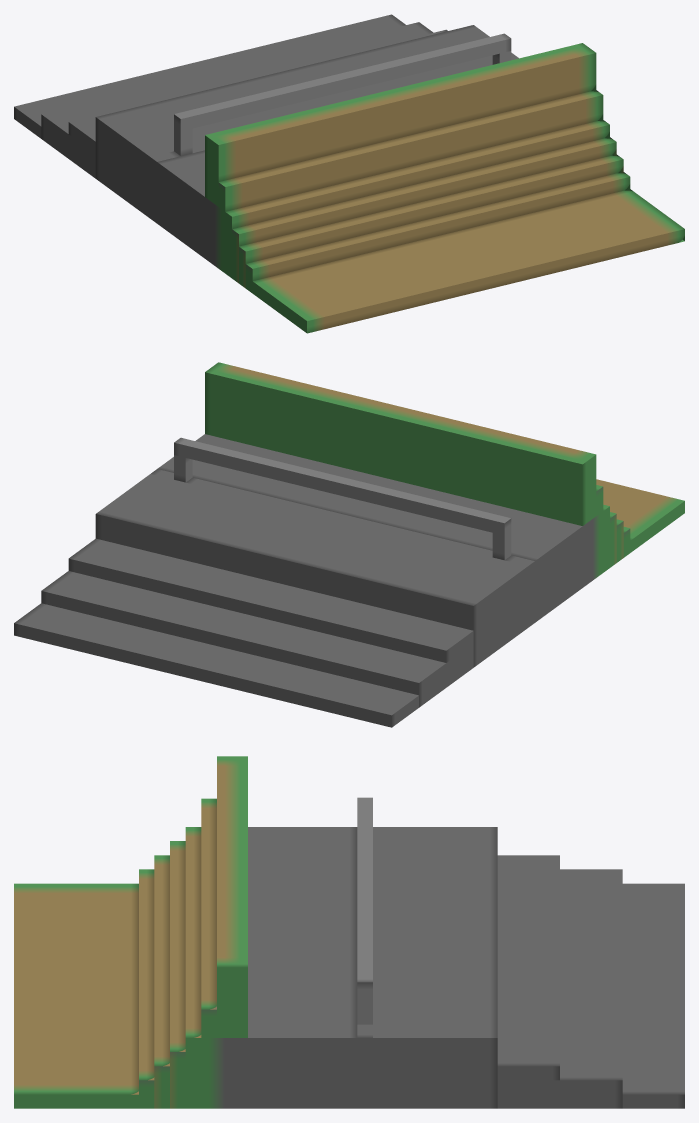
Rendered from SKATE_1.dae.
The picture shows the model from 3 angles, top to bottom: view 1: azimuth 30°, elevation 25°; view 2: azimuth 150°, elevation 25°; view 3: azimuth 270°, elevation 25°; orthographic projection. The views are drawn at different scales.
Visible parts, largest first — view 1: Content; view 2: Content; view 3: Content.
Part boxes in pixels (bbox=[...]): Content: bbox=[14, 14, 684, 333]; Content: bbox=[14, 362, 684, 727]; Content: bbox=[14, 756, 684, 1108].
Size of the model in its own units: 32 by 10 by 43.
1 material, 1 textured.
